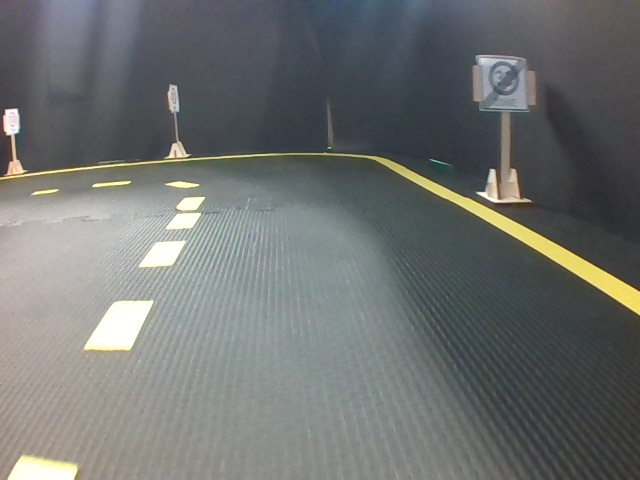30: (6, 110, 19, 133), (170, 86, 179, 113)
no30: (479, 55, 526, 112)
